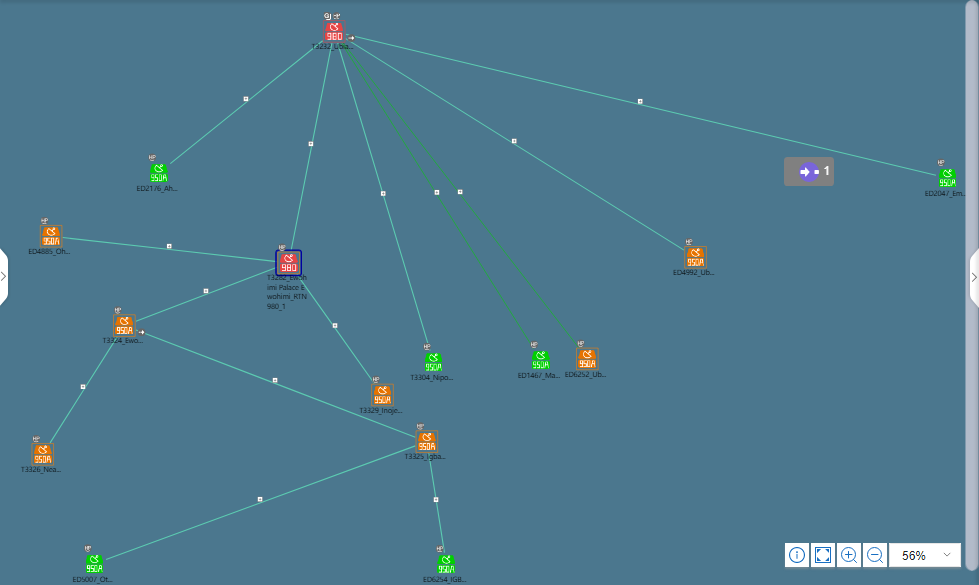Link_Blue: (378, 39, 932, 173), (355, 39, 687, 247), (107, 442, 411, 563), (138, 326, 418, 439), (340, 62, 436, 355), (168, 39, 326, 162), (138, 265, 272, 325), (297, 277, 370, 386), (46, 338, 115, 447), (291, 51, 329, 233), (64, 234, 272, 260), (425, 455, 448, 557)
Link_Green: (346, 52, 583, 349)
RTN_Green: (529, 351, 552, 374), (83, 553, 106, 575), (150, 167, 173, 184), (437, 553, 454, 575), (425, 351, 441, 374), (939, 167, 955, 190)
RTN_Orange: (34, 442, 57, 465), (113, 314, 136, 337), (40, 228, 63, 251), (419, 430, 442, 453), (578, 351, 601, 374), (682, 247, 704, 270), (370, 387, 392, 410)
RTN_Red: (278, 253, 301, 276), (321, 20, 343, 43)
